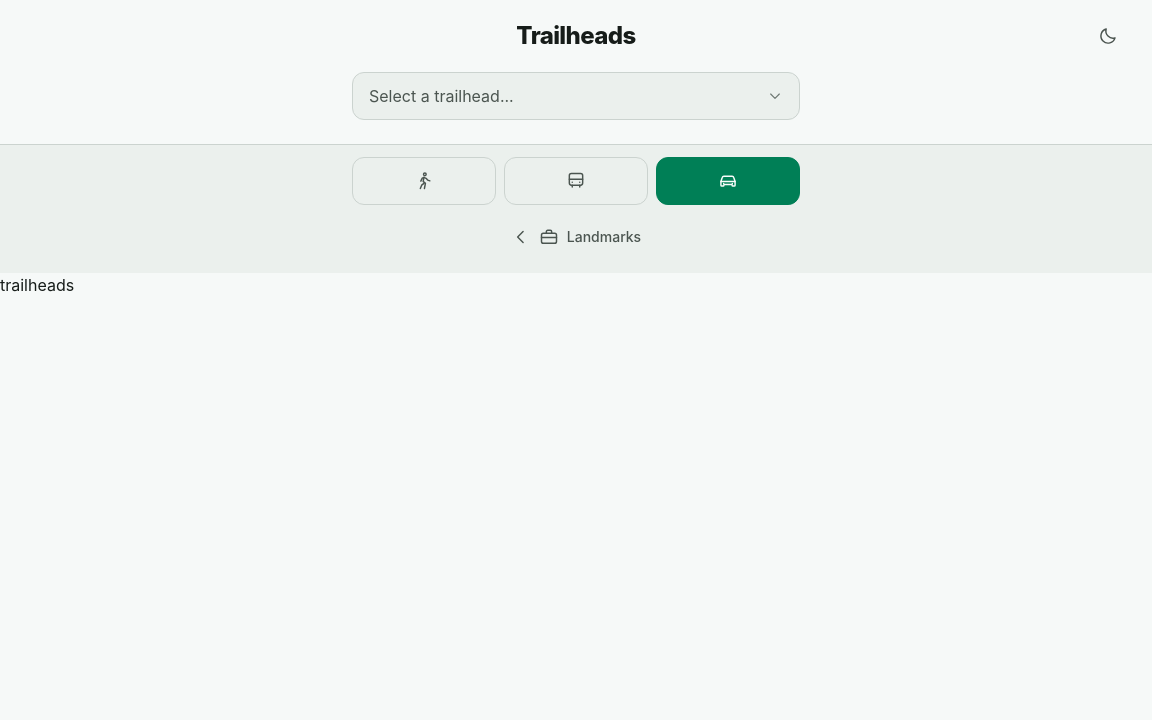
it: TrailheadFinder › Picker › labels rows of multi-entrance trailheads with the entrance name
The width and height of the screenshot is (1152, 720).
Click the button "Select a trailhead...".
click(441, 96)  # box [352, 72, 800, 120]
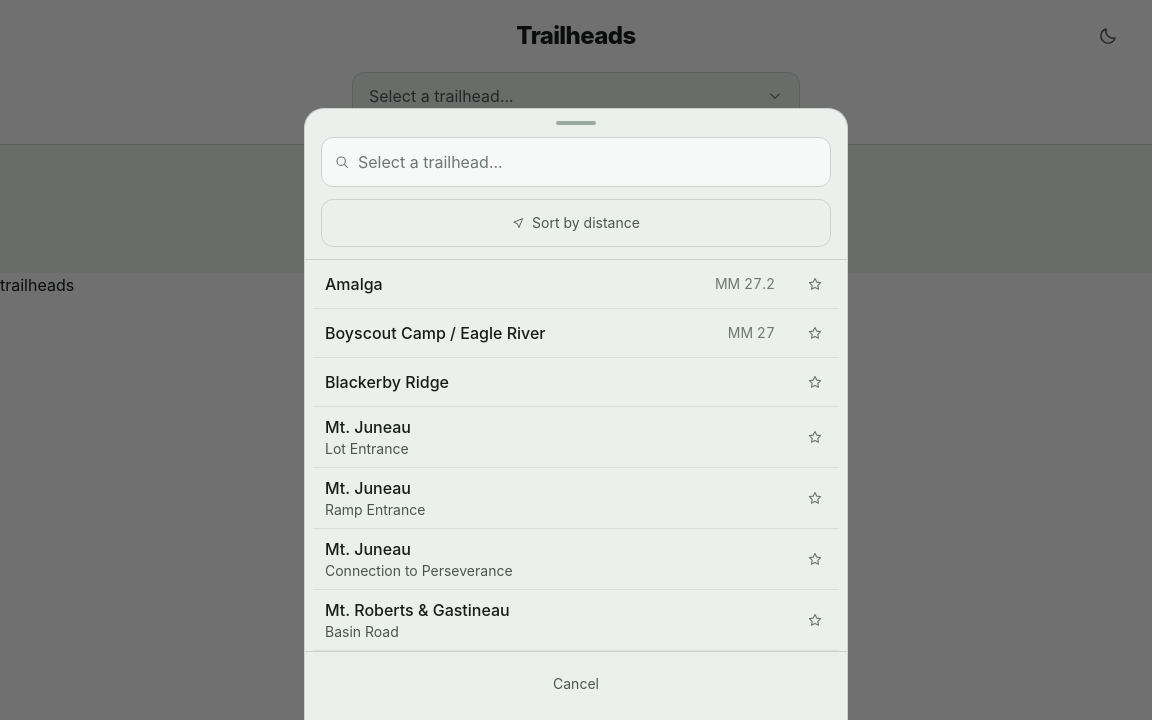
Type "treadwell" into the search field named "Search trailhead".
click(588, 162); type("treadwell")  # box [358, 138, 818, 186]
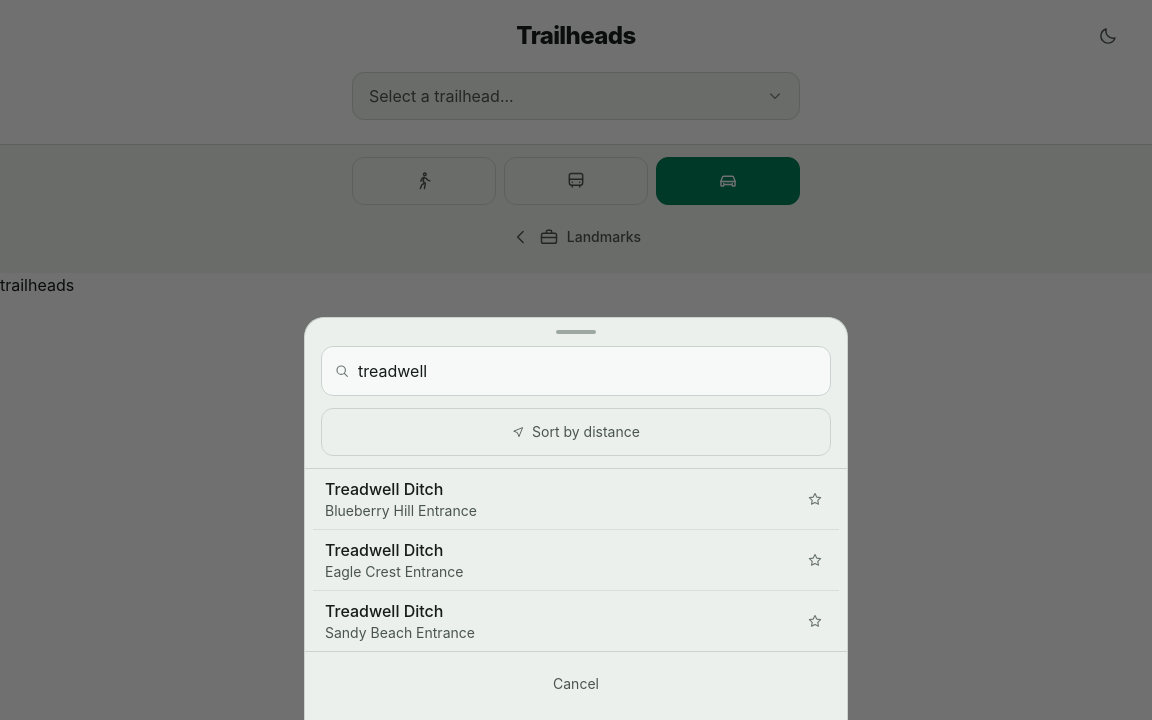
Expected: the button "Treadwell Ditch Blueberry Hill Entrance" is shown, [313, 469, 787, 529]
Expected: the button "Treadwell Ditch Eagle Crest Entrance" is shown, [313, 530, 787, 590]
Expected: the button "Treadwell Ditch Sandy Beach Entrance" is shown, [313, 591, 787, 651]
